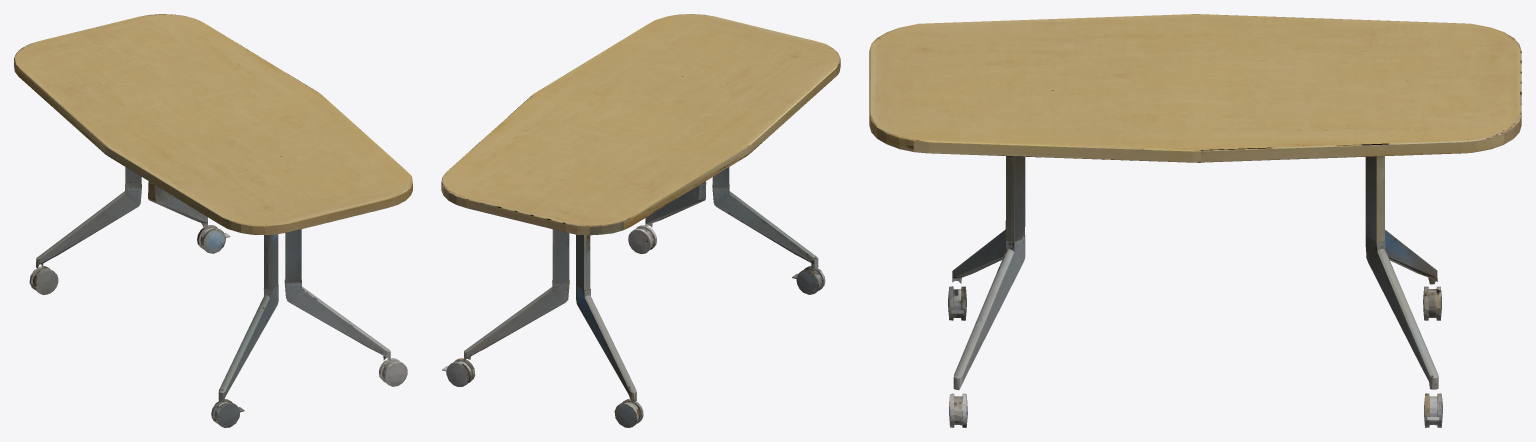
3 views of the same model, side by side, from view 1: azimuth 30°, elevation 25°; view 2: azimuth 150°, elevation 25°; view 3: azimuth 270°, elevation 25° (orthographic). The views are drawn at different scales.
Visible parts, largest first — view 1: Node; view 2: Node; view 3: Node.
Boxes of the visible parts, bbox=[...] form: Node: bbox=[14, 14, 412, 427]; Node: bbox=[441, 14, 840, 427]; Node: bbox=[869, 14, 1521, 427].
Size of the model in its own units: 0.3482 by 0.3401 by 0.7.
Materials: 1 (1 with a texture image).
